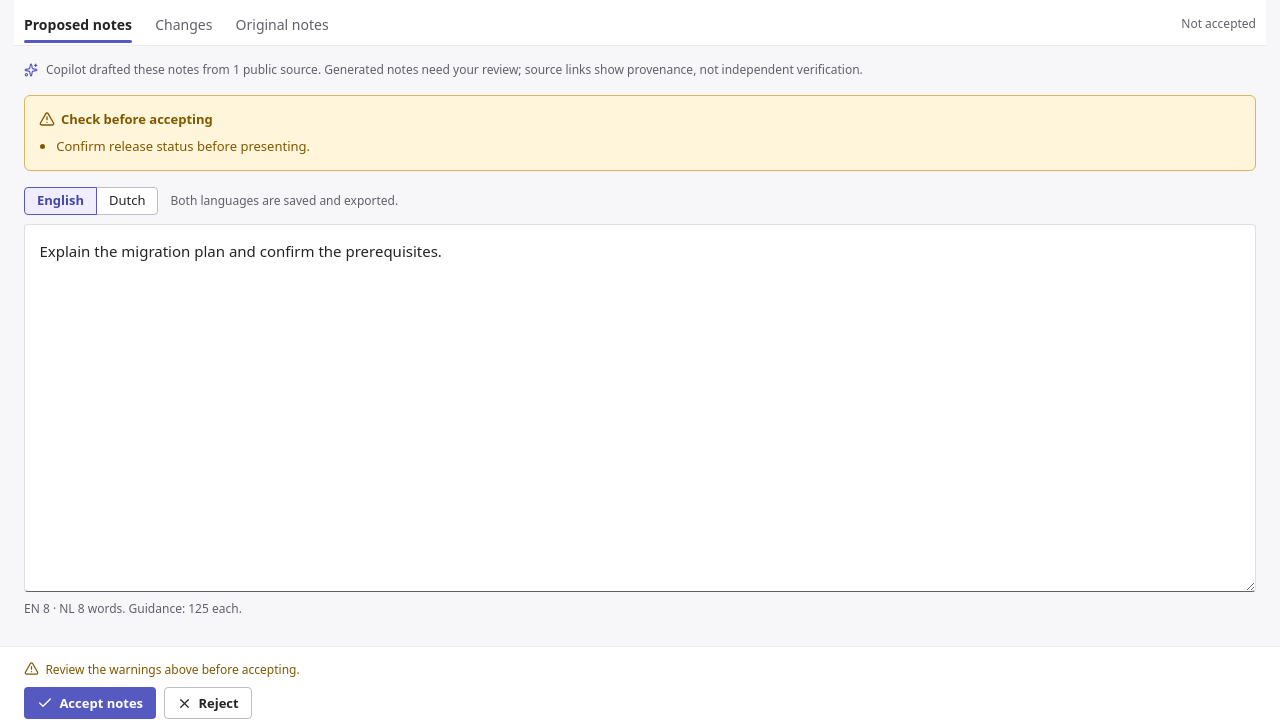
shows real word diffs and keeps proposal warnings with the editor, never behind details
Click the button "Changes" at (184, 25), box [146,6,222,45]
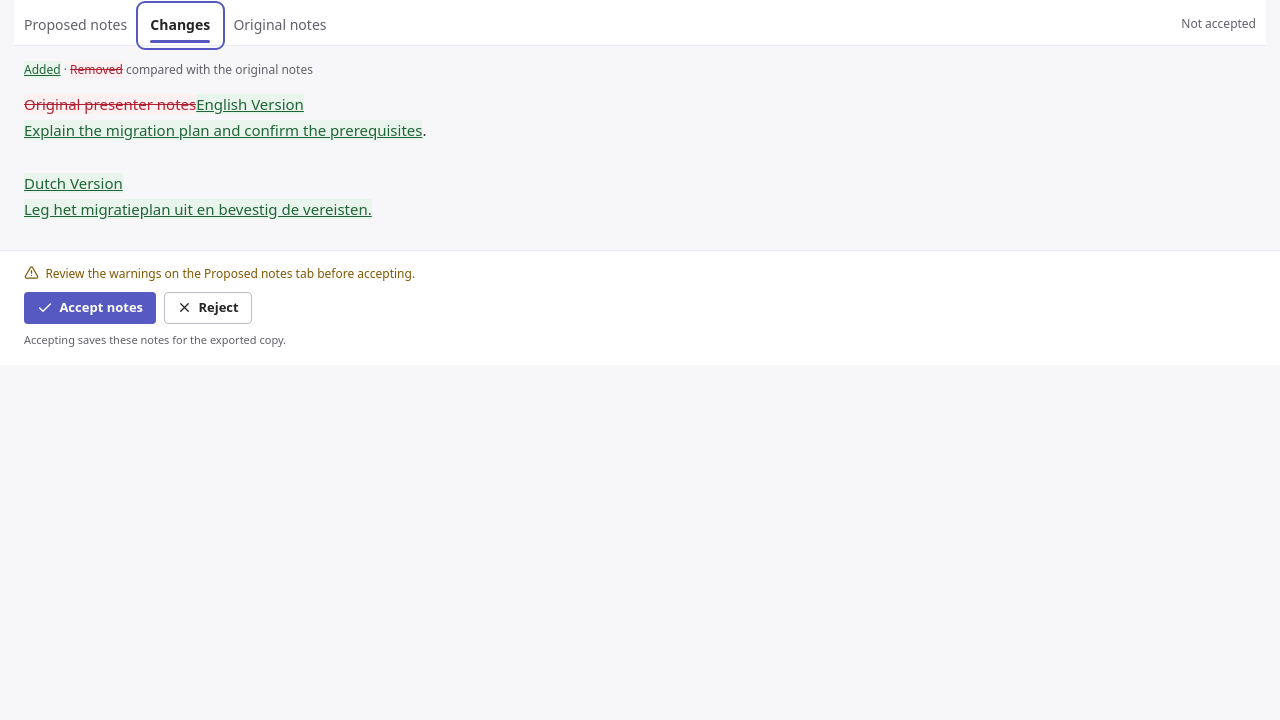
Expected: the text "Original presenter notes" is shown, [24,94,196,114]
Expected: the list item "Confirm release status before presenting." is gone
Expected: the text "Review the warnings on the Proposed notes tab" is shown, [24,265,415,282]
